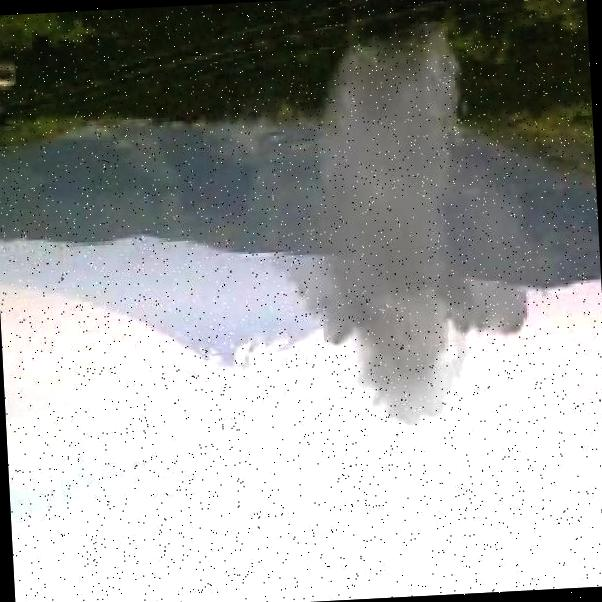smoke: (291, 6, 546, 428)
